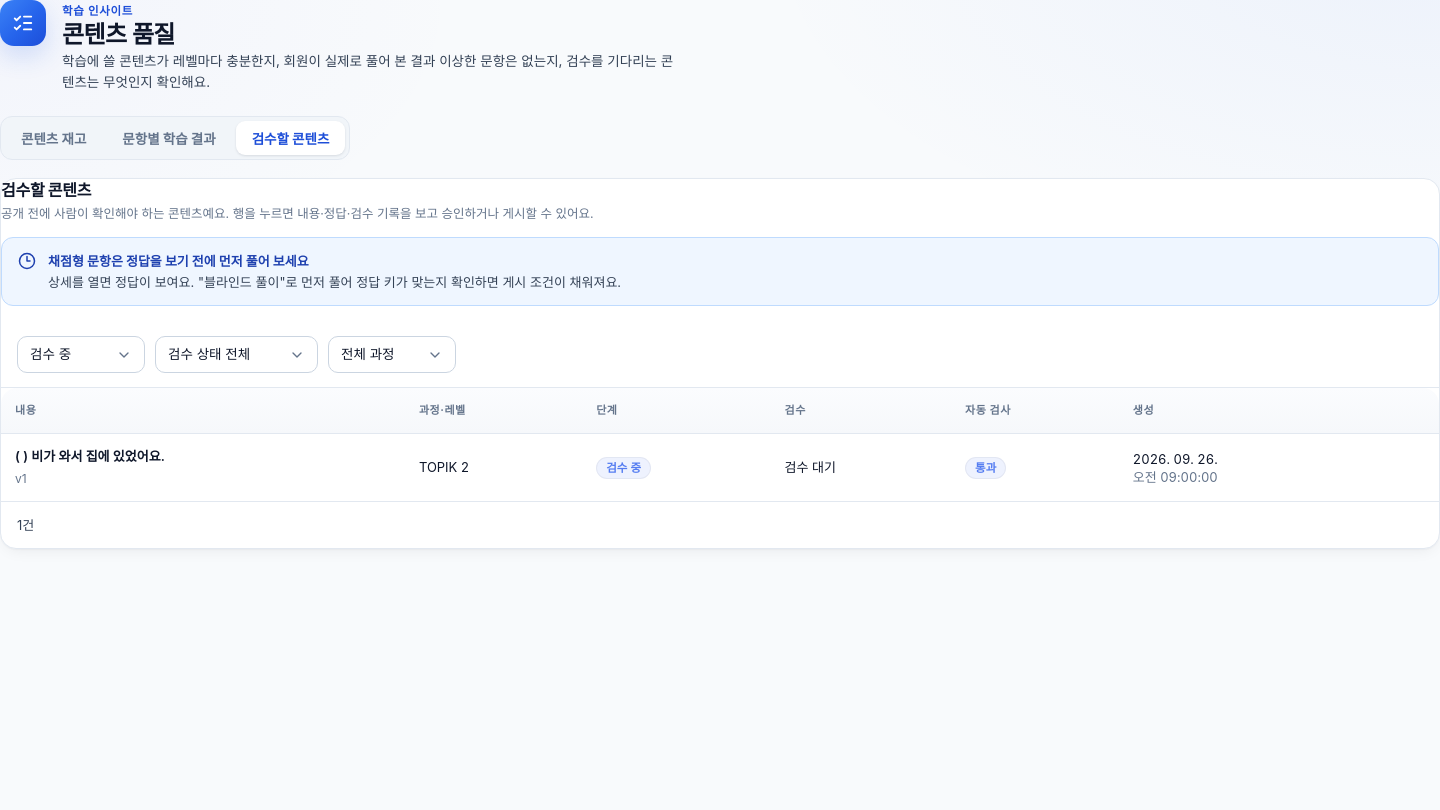
it: ContentQualityPage › names the version's skills and never shows its ids
The image size is (1440, 810).
Click the text "( ) 비가 와서 집에 있었어요.". click: (90, 456)
box: [15,448,165,464]
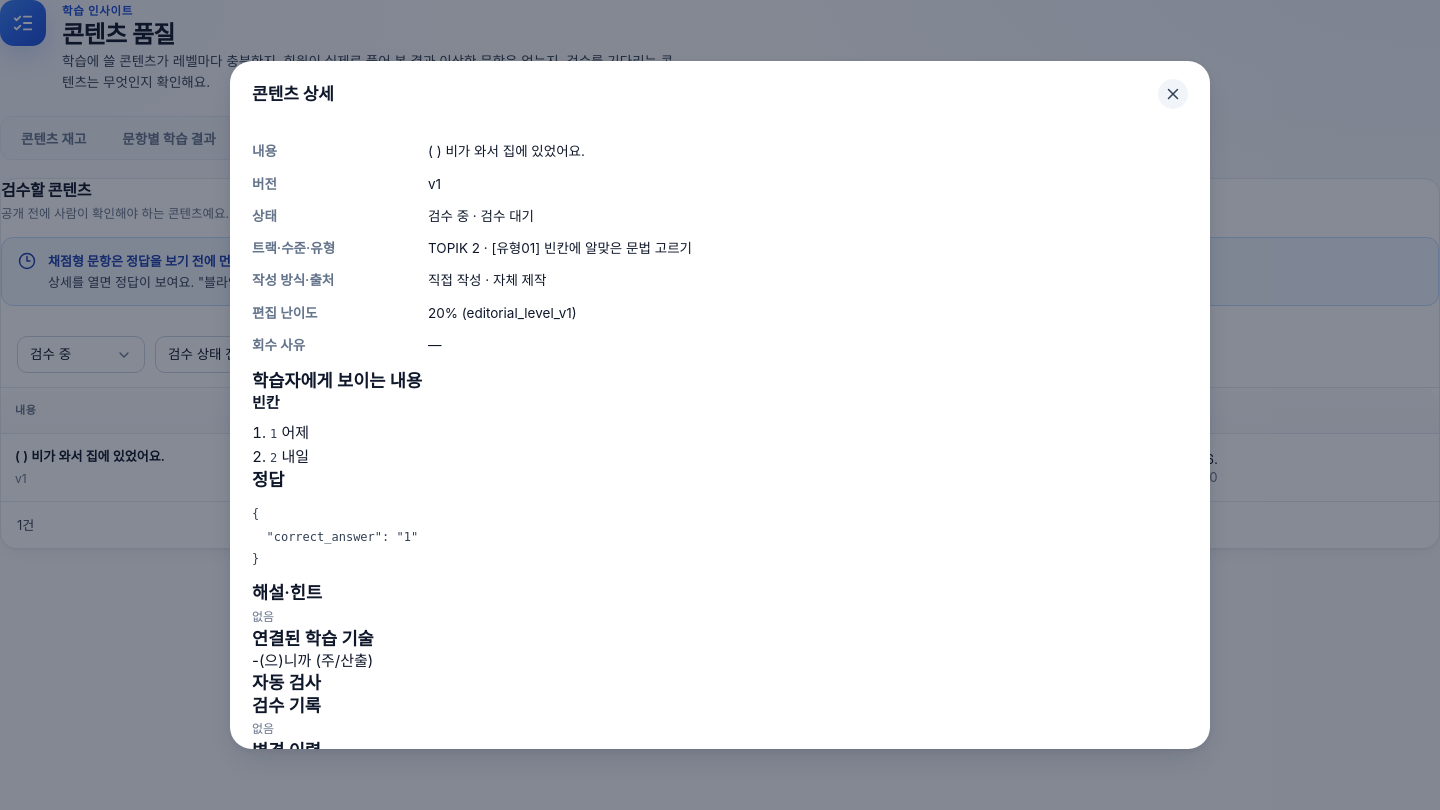
Check: the text "-(으)니까 (주/산출)" is shown, box [252,651,373,670]
